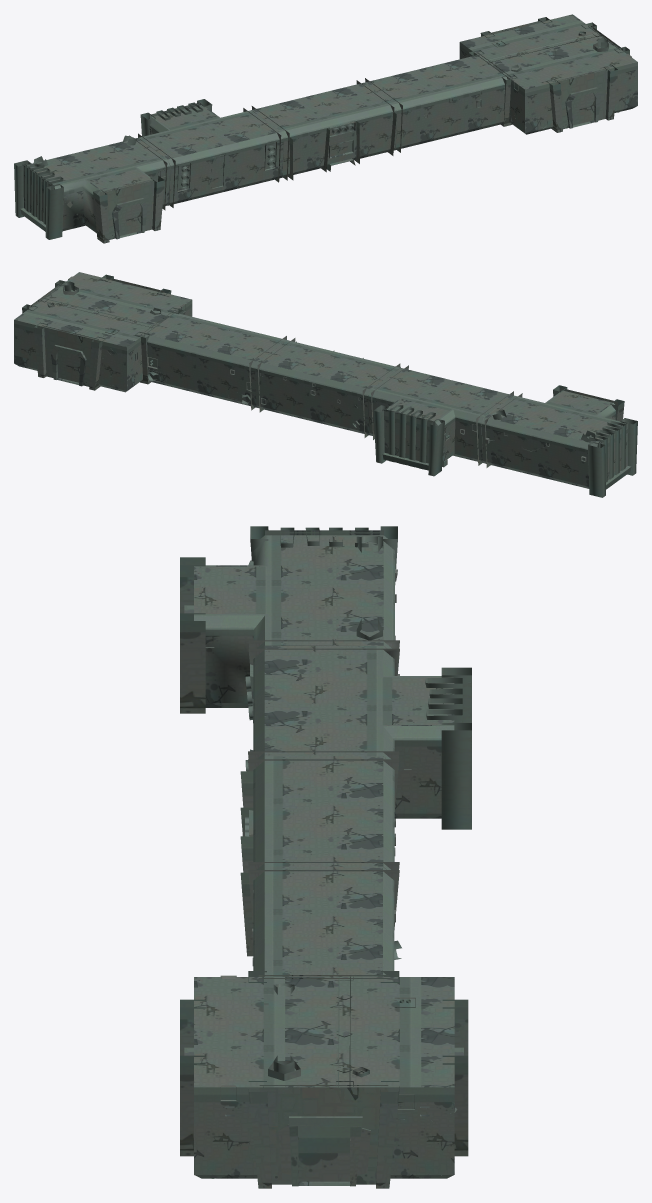
File: Combined_Mesh_root_scene__7_93922163__zombies2_diffuse_08_b0bdab26_c1f257.obj
The picture shows the model from 3 angles, top to bottom: view 1: azimuth 30°, elevation 25°; view 2: azimuth 150°, elevation 25°; view 3: azimuth 270°, elevation 25°; orthographic projection. The views are drawn at different scales.
Bounding box in the file's own units: 102 × 9.84 × 22.39.
Materials: 85 (85 with a texture image).
